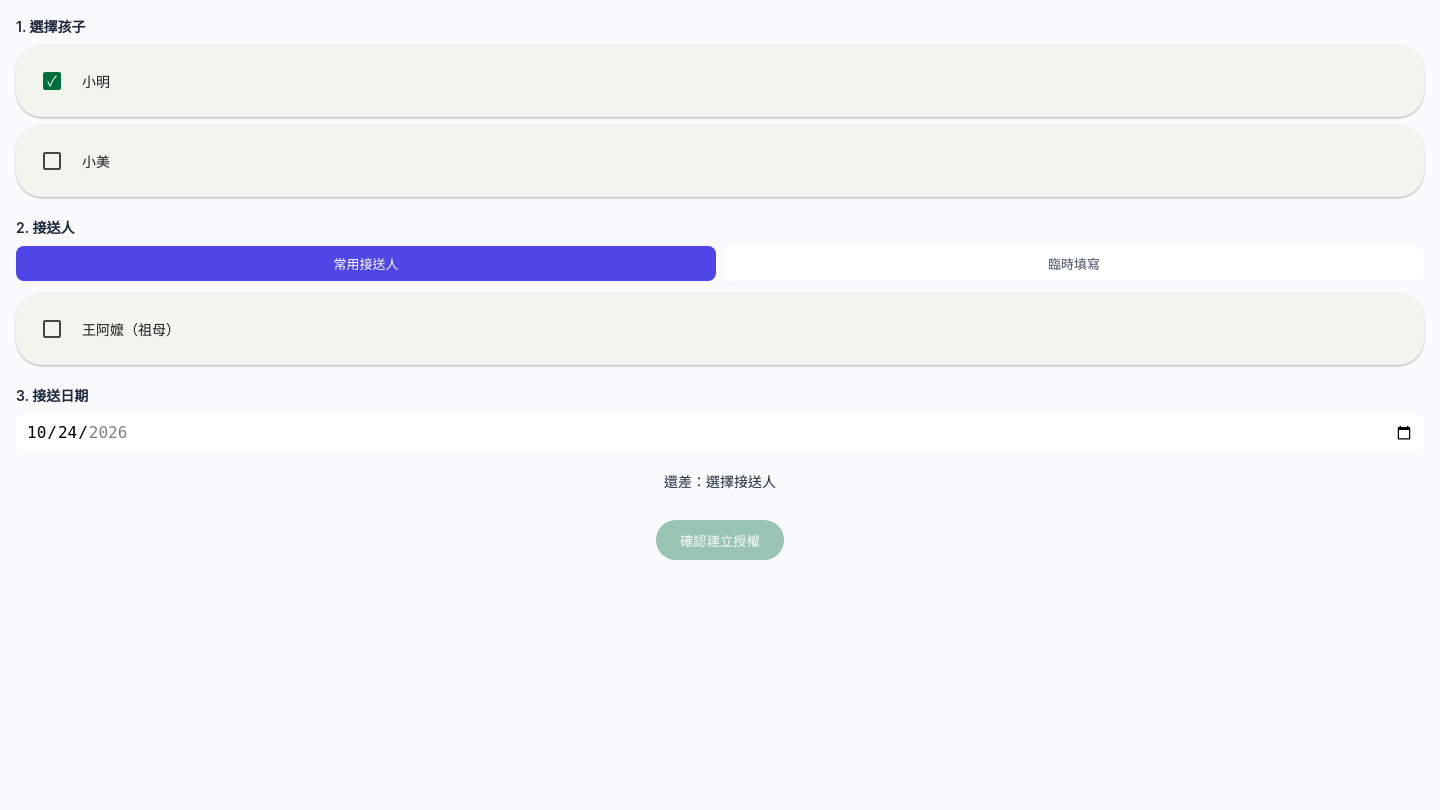
PickupCreateView › 沒選孩子時不說「尚無常用接送人」，而是請家長先選孩子
Click the button with class "child-row" showing "✓ 小明" at (96, 81), box [16,45,1424,117]
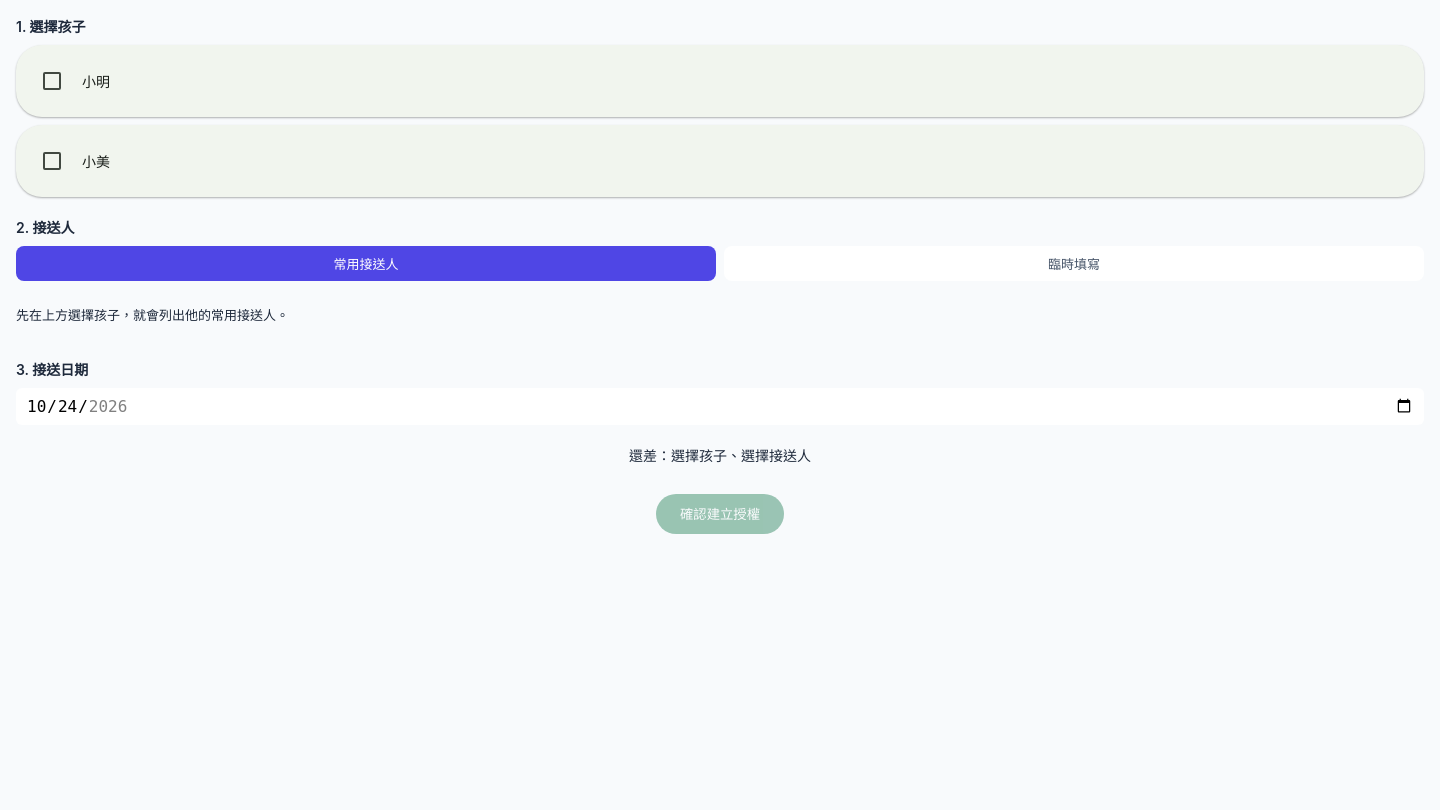
expect the text "先在上方選擇孩子" is shown: met, box [16,307,289,323]
